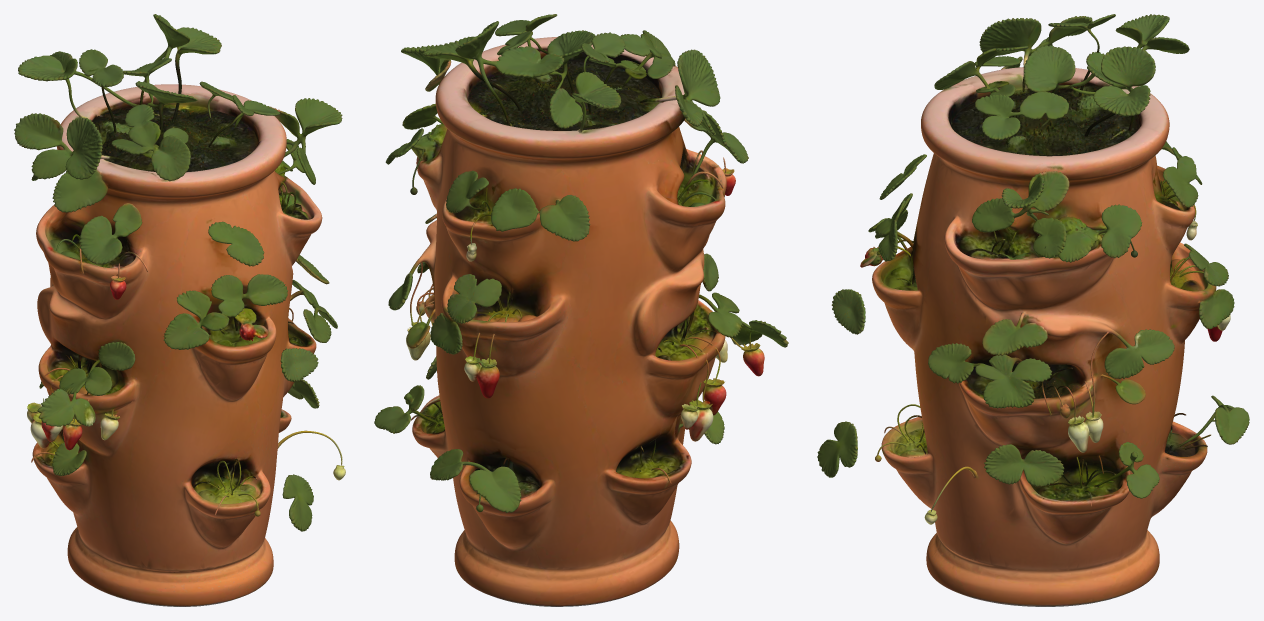
Rendered from strawberry_pot.glb.
3 views of the same model, side by side, from view 1: azimuth 30°, elevation 25°; view 2: azimuth 150°, elevation 25°; view 3: azimuth 270°, elevation 25° (orthographic). The views are drawn at different scales.
Visible parts, largest first — view 1: node_0; view 2: node_0; view 3: node_0.
Boxes of the visible parts, x1=… form: node_0: x1=14, y1=14, x2=345, y2=606; node_0: x1=374, y1=14, x2=788, y2=606; node_0: x1=817, y1=14, x2=1249, y2=606.
Bounding box in the file's own units: 0.7454 × 1.11 × 0.8149.
1 material, 1 textured.
